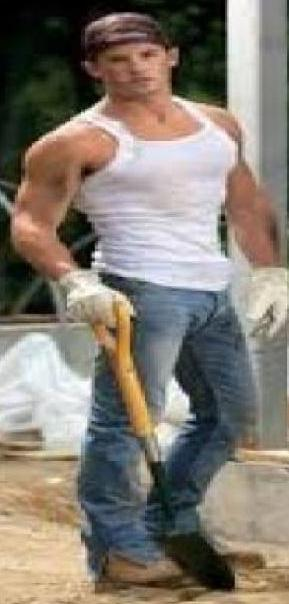no hat: (56, 1, 219, 104)
no vest: (1, 79, 284, 359)
